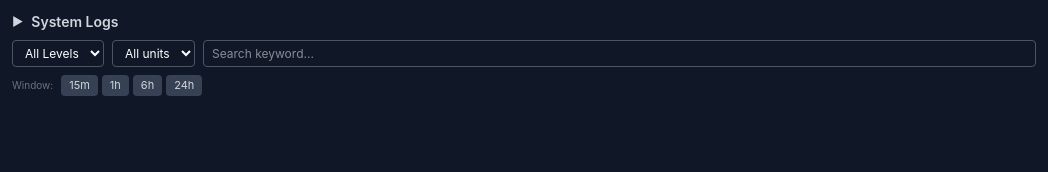
Scenario: SystemLogs (Host pane over LogExplorer) › a window click while collapsed opens the output and is the only pull
Click the button "6h": [147, 85] box x1=133 y1=75 x2=162 y2=96
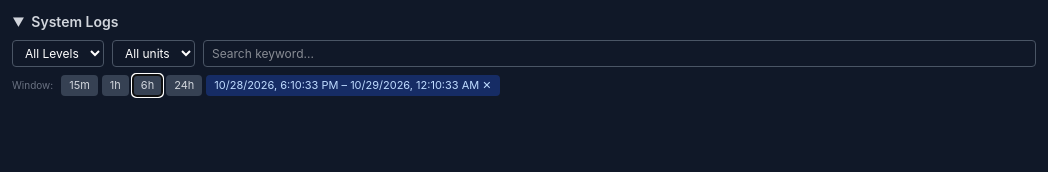
Now the button with aria-label "Collapse System Logs" is shown, box x1=12 y1=12 x2=118 y2=32
